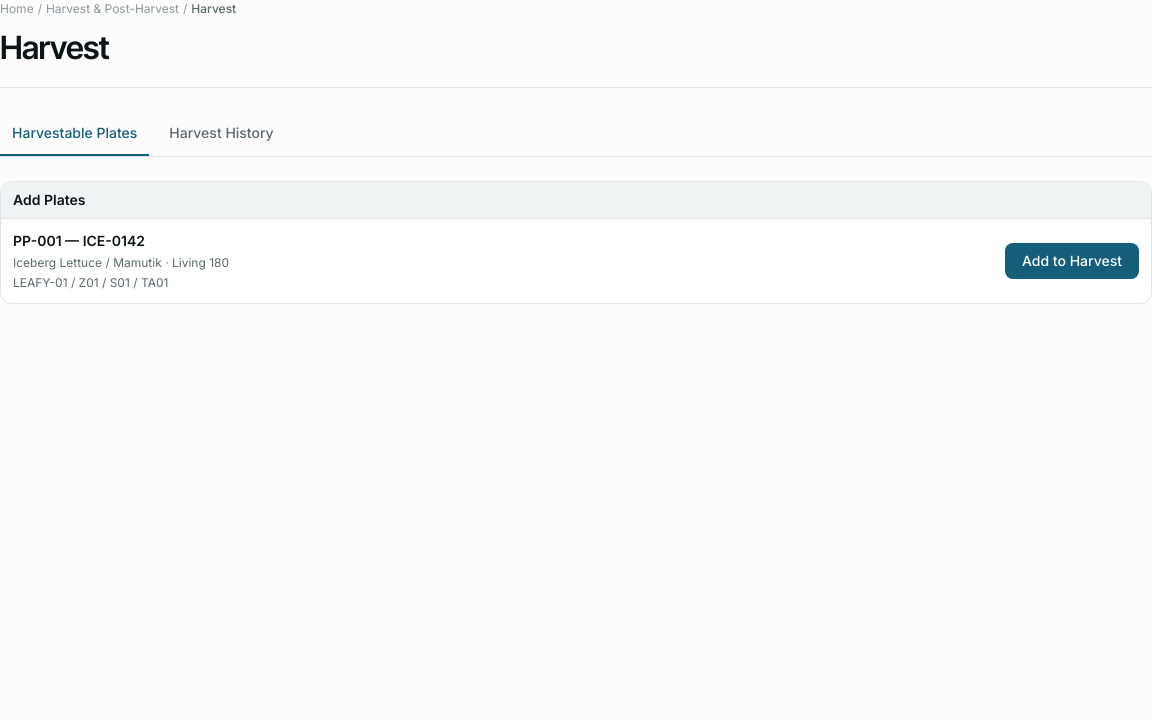
Scenario: LeafyHarvestPage › on a 409 conflict, preserves the draft, refreshes plates, and forces back to Configure
Check: the text "PP-001 — ICE-0142" is shown, box [13,232,145,249]
Click the button "Add to Harvest" at (1072, 261), box [1005,243,1139,279]
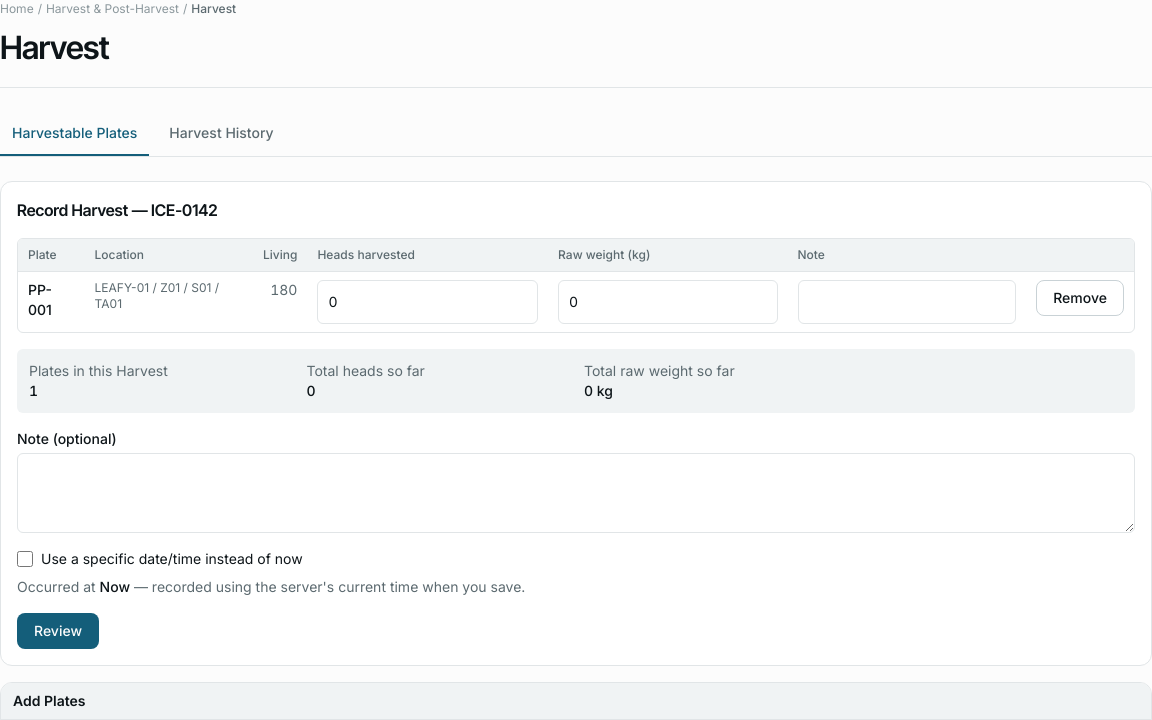
Check: the number field named "heads harvested" is shown
Replace the text in the number field named "heads harvested" with "5" at (428, 302), box [317,280,538,324]
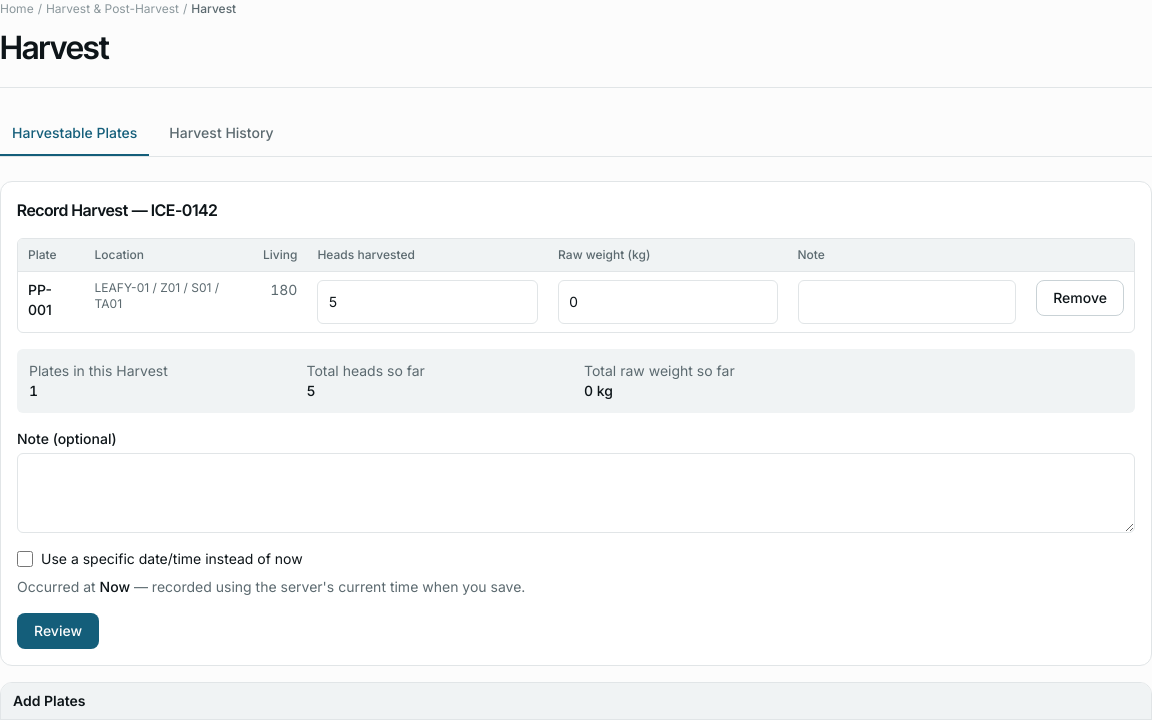
Replace the text in the number field named "raw harvested weight" with "2.5" at (668, 302), box [558,280,778,324]
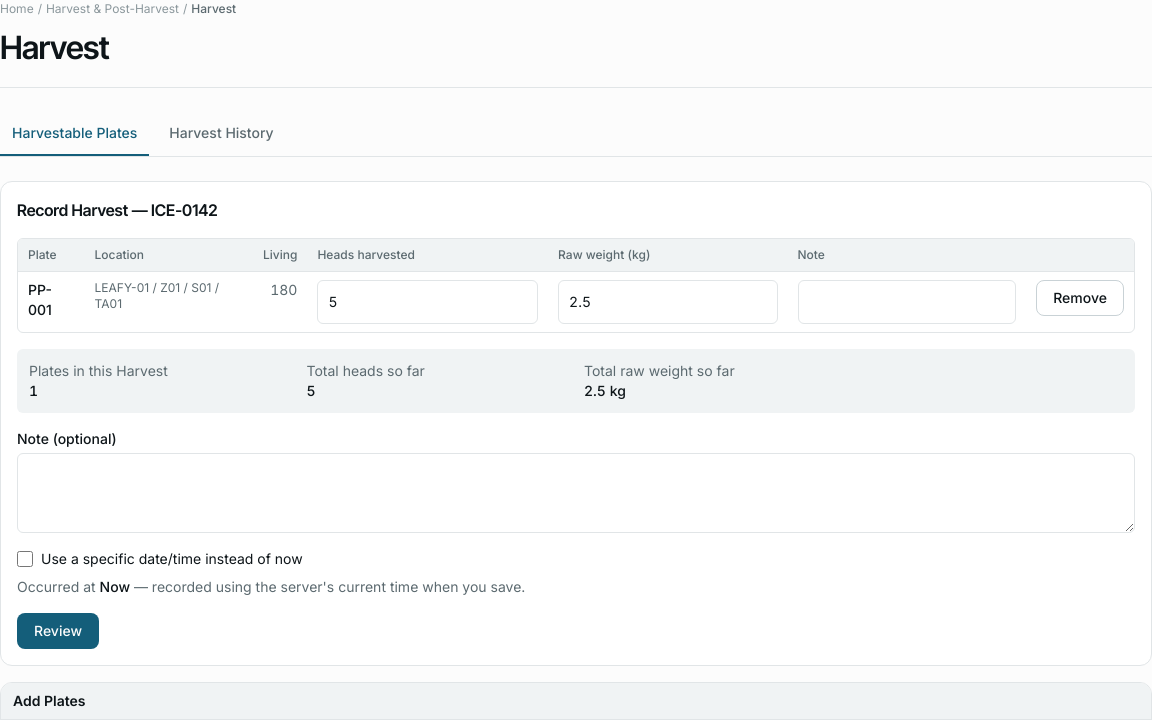
Click the button "Review" at (58, 631), box [17,613,99,649]
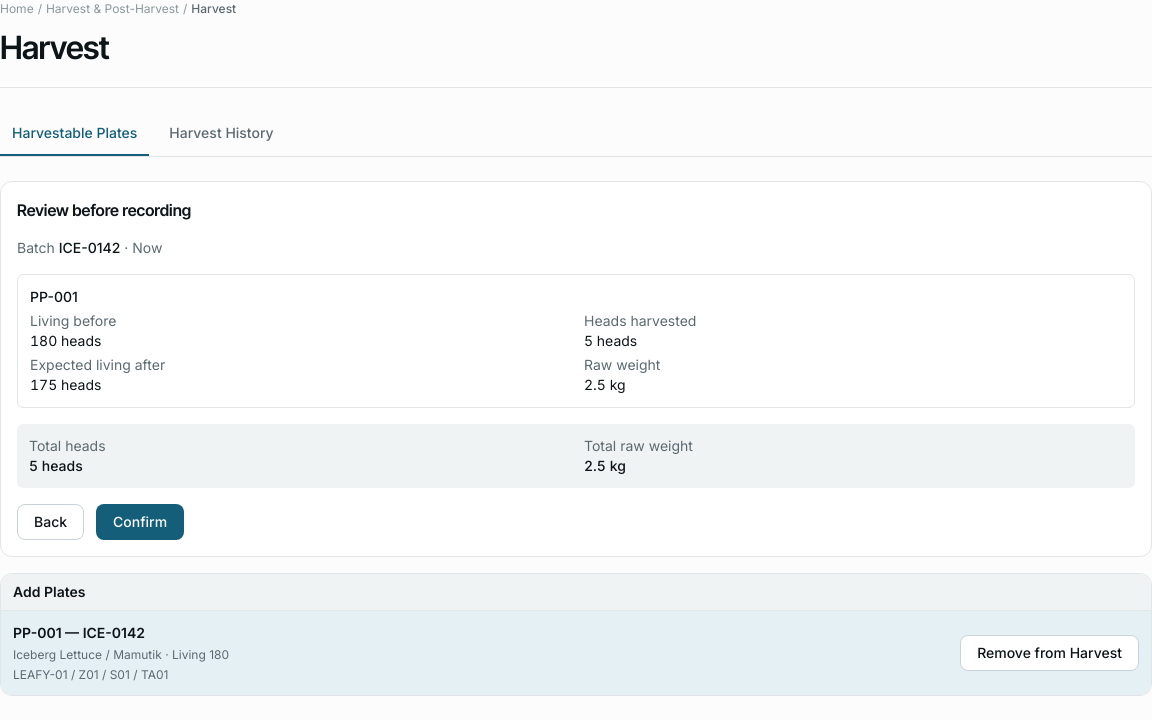
Check: the heading "Review before recording" is shown, box [17,200,191,220]
Click the button "Confirm" at (140, 522), box [96,504,184,540]
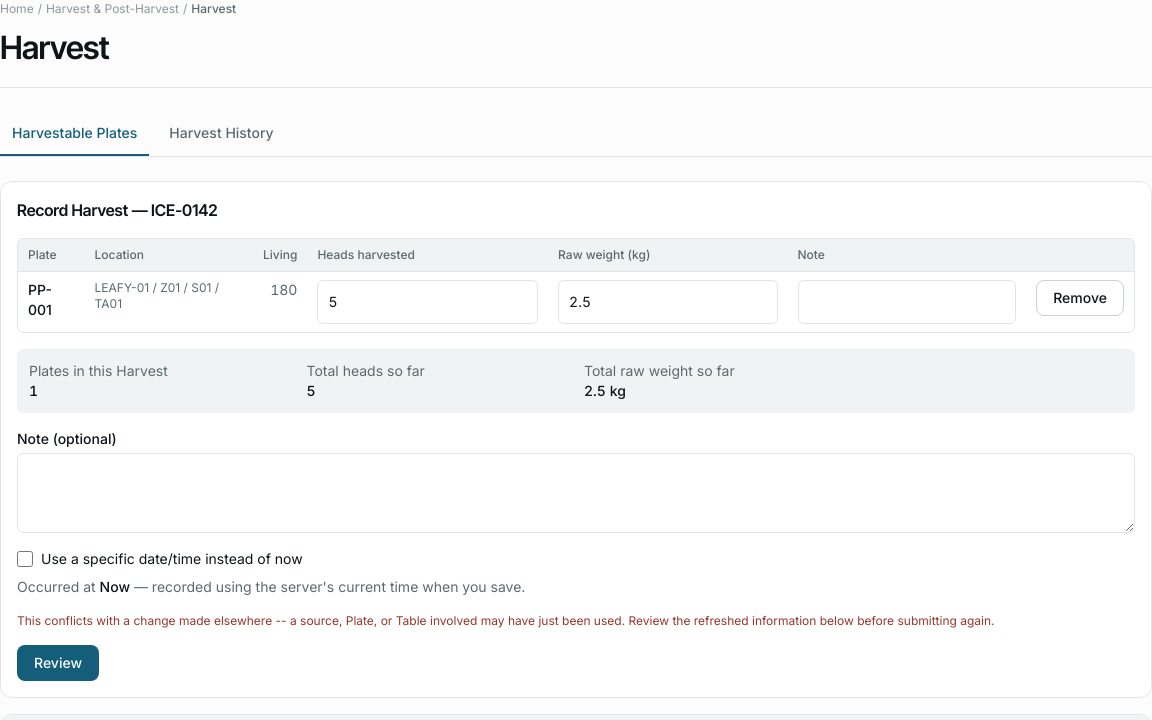
Check: the heading "Review before recording" is gone
Check: the number field named "heads harvested" holds "5", box [317,280,538,324]
Check: the message is shown, box [17,613,1135,629]
